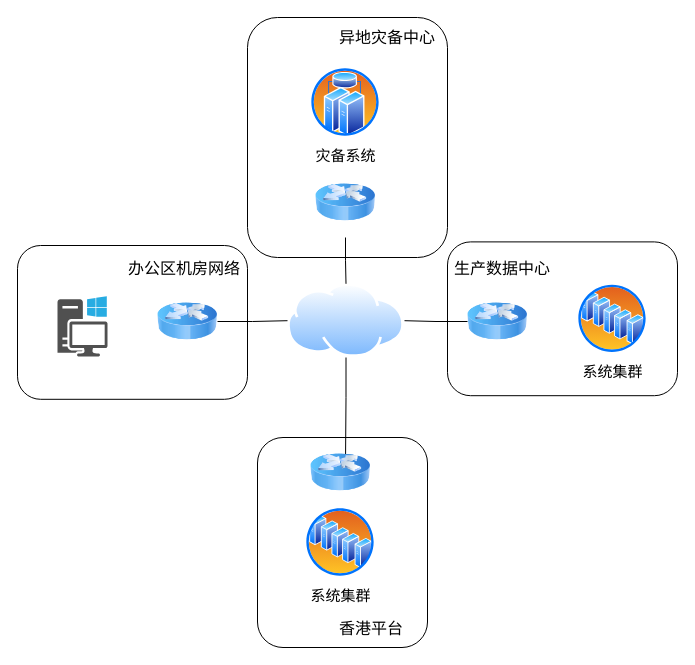
Image size: 695x665. Some labels were removed from this diagram. Here are the shapes that lost their labels. From the top down, the centre of each, then its label:
the point at 82,326: 办公区终端
the point at 345,320: 运营商专线网络
